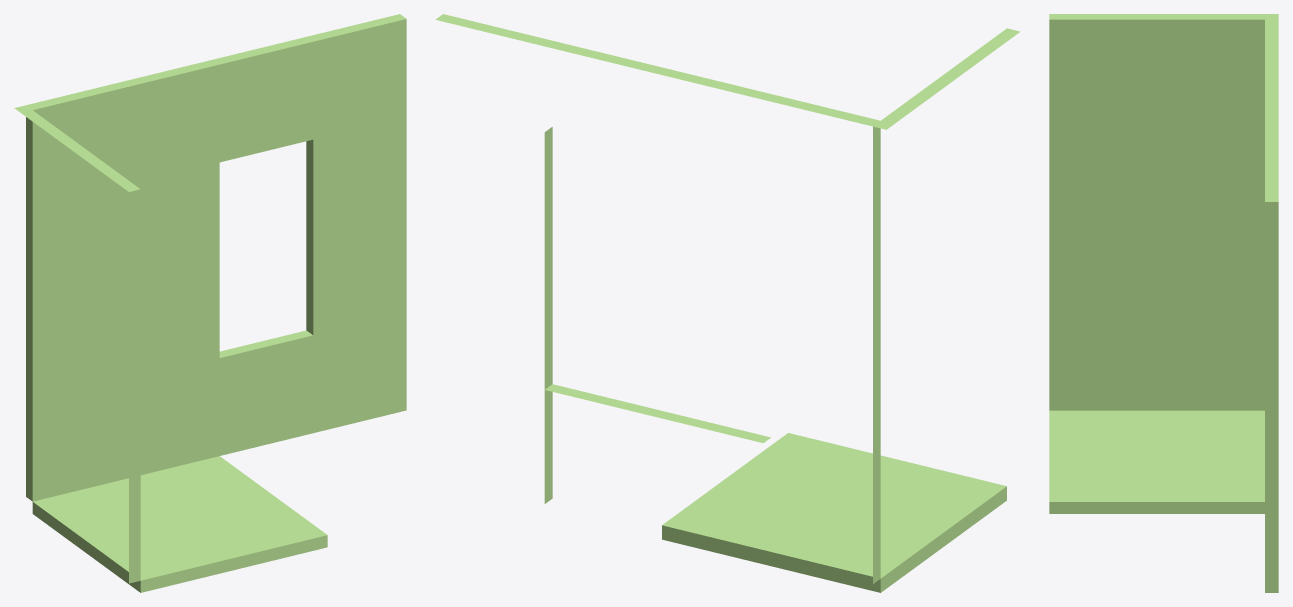
File: Environment_Models.glb
3 renders of one model, left to right at view 1: azimuth 30°, elevation 25°; view 2: azimuth 150°, elevation 25°; view 3: azimuth 270°, elevation 25°, orthographic. The views are drawn at different scales.
Visible parts, largest first — view 1: SM_Doorway, SM_WallCorner, SM_Wall, SM_Window, SM_Ground; view 2: SM_Ground, SM_Doorway, SM_Wall, SM_Window, SM_WallCorner; view 3: SM_WallCorner, SM_Ground, SM_Doorway, SM_Wall.
Boxes of the visible parts, x1,y1,x2,y2 form: SM_Doorway: (26,14,406,499); SM_WallCorner: (14,77,219,583); SM_Wall: (26,59,219,501); SM_Window: (32,19,406,498); SM_Ground: (32,456,327,592); SM_Ground: (662,433,1006,592); SM_Doorway: (435,14,876,503); SM_Wall: (654,67,880,583); SM_Window: (544,155,770,443); SM_WallCorner: (656,28,1019,129); SM_WallCorner: (1049,14,1278,410); SM_Ground: (1049,410,1264,513); SM_Doorway: (1265,20,1278,592); SM_Wall: (1265,19,1278,110).
Bounding box in the file's own units: 2.06 × 2.06 × 1.06.
